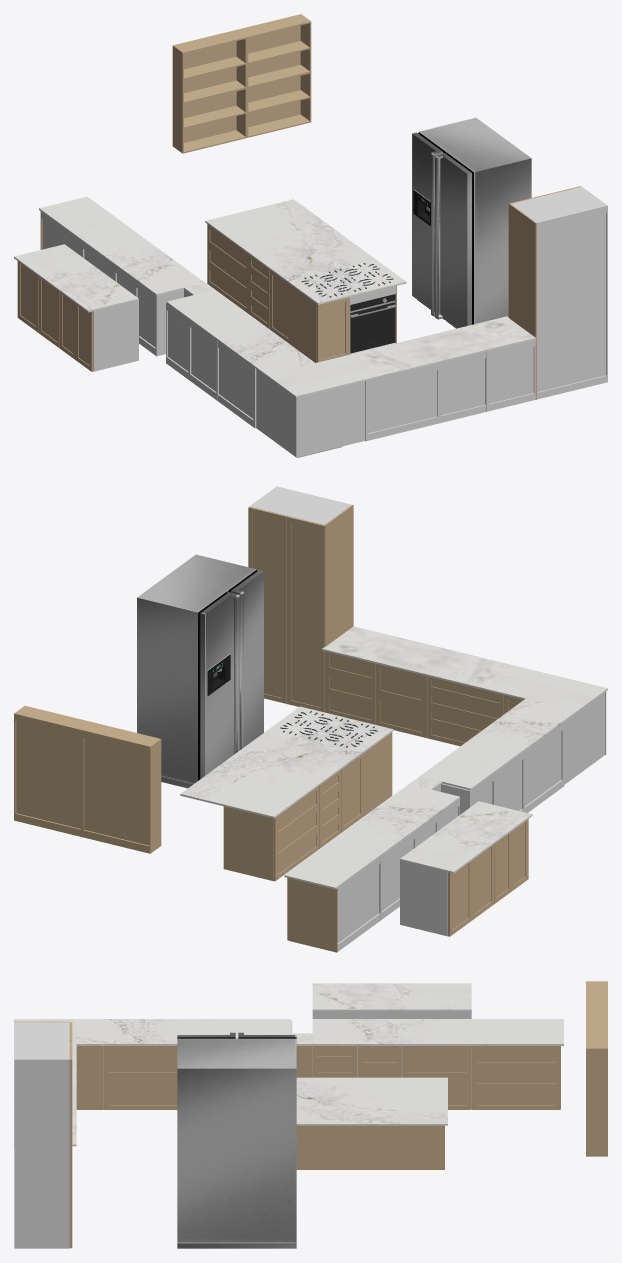
Rendered from Kombuis.glb.
3 renders of one model, top to bottom at view 1: azimuth 30°, elevation 25°; view 2: azimuth 150°, elevation 25°; view 3: azimuth 270°, elevation 25°, orthographic. The views are drawn at different scales.
Visible parts, largest first — view 1: _C-Double Door Fridge (Loose Mesh), 2_Door_007_mesh_005, Worktop_025_mesh_000, Worktop_026_mesh_000, Worktop_028_mesh_000, Worktop_027_mesh_000, Corner_002_mesh_006, Worktop_045_1_mesh_000, 2_Door_007_mesh_000, 4_Drawer_003_mesh_006, 1_Door_041_mesh_005, 1_Door_042_mesh_005 (+32 smaller); view 2: _C-Double Door Fridge (Loose Mesh), Worktop_025_mesh_000, Worktop_026_mesh_000, Worktop_028_mesh_000, 1_Door_041_mesh_005, 1_Door_042_mesh_005, Worktop_027_mesh_000, 2_Door_007_mesh_008, Worktop_045_1_mesh_000, 2_Door_007_mesh_009, 2_Door_007_mesh_000, 2_Door_044_mesh_000 (+22 smaller); view 3: _C-Double Door Fridge (Loose Mesh), 2_Door_007_mesh_001, Worktop_025_mesh_000, Worktop_028_mesh_000, Worktop_045_mesh_000, Worktop_045_1_mesh_000, Worktop_027_mesh_000, 1_Door_042_mesh_001, 2_Door_007_mesh_007, 2_Drawer_008_mesh_011, 2_Drawer_008_mesh_021, 2_Drawer_016_mesh_021 (+21 smaller).
Part boxes in pixels (left/top/right/bottom): _C-Double Door Fridge (Loose Mesh): left=412, top=117, right=531, bottom=328; 2_Door_007_mesh_005: left=537, top=206, right=605, bottom=391; Worktop_025_mesh_000: left=205, top=199, right=406, bottom=304; Worktop_026_mesh_000: left=266, top=316, right=536, bottom=397; Worktop_028_mesh_000: left=39, top=196, right=204, bottom=295; Worktop_027_mesh_000: left=166, top=290, right=314, bottom=375; Corner_002_mesh_006: left=295, top=381, right=364, bottom=457; Worktop_045_1_mesh_000: left=14, top=244, right=138, bottom=312; 2_Door_007_mesh_000: left=509, top=204, right=536, bottom=399; 4_Drawer_003_mesh_006: left=368, top=370, right=437, bottom=433; 1_Door_041_mesh_005: left=178, top=30, right=236, bottom=142; 1_Door_042_mesh_005: left=239, top=16, right=300, bottom=127; _C-Double Door Fridge (Loose Mesh): left=137, top=554, right=263, bottom=788; Worktop_025_mesh_000: left=180, top=706, right=393, bottom=818; Worktop_026_mesh_000: left=322, top=626, right=607, bottom=712; Worktop_028_mesh_000: left=284, top=784, right=459, bottom=889; 1_Door_041_mesh_005: left=84, top=730, right=148, bottom=845; 1_Door_042_mesh_005: left=16, top=713, right=80, bottom=828; Worktop_027_mesh_000: left=420, top=698, right=576, bottom=790; 2_Door_007_mesh_008: left=287, top=516, right=325, bottom=706; Worktop_045_1_mesh_000: left=400, top=801, right=532, bottom=873; 2_Door_007_mesh_009: left=249, top=506, right=286, bottom=697; 2_Door_007_mesh_000: left=325, top=504, right=353, bottom=645; 2_Door_044_mesh_000: left=400, top=860, right=447, bottom=936; _C-Double Door Fridge (Loose Mesh): left=177, top=1032, right=296, bottom=1248; 2_Door_007_mesh_001: left=14, top=1059, right=69, bottom=1248; Worktop_025_mesh_000: left=296, top=1077, right=447, bottom=1125; Worktop_028_mesh_000: left=312, top=1019, right=563, bottom=1045; Worktop_045_mesh_000: left=296, top=1125, right=444, bottom=1169; Worktop_045_1_mesh_000: left=312, top=983, right=471, bottom=1011; Worktop_027_mesh_000: left=76, top=1019, right=290, bottom=1045; 1_Door_042_mesh_001: left=586, top=1048, right=607, bottom=1156; 2_Door_007_mesh_007: left=16, top=1022, right=69, bottom=1058; 2_Drawer_008_mesh_011: left=108, top=1082, right=177, bottom=1105; 2_Drawer_008_mesh_021: left=108, top=1049, right=177, bottom=1072; 2_Drawer_016_mesh_021: left=407, top=1049, right=466, bottom=1072.
Bounding box in the file's own units: 4.73 × 2.11 × 5.98.
Materials: 366 (3 with a texture image).
